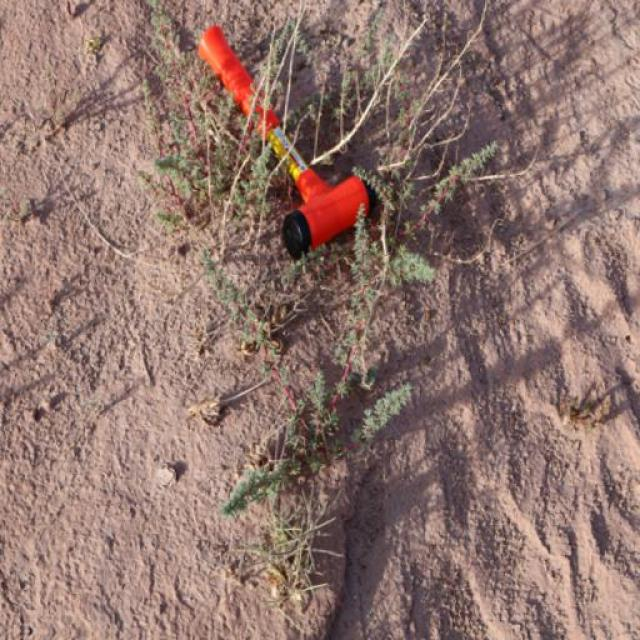mallet: (194, 22, 372, 260)
